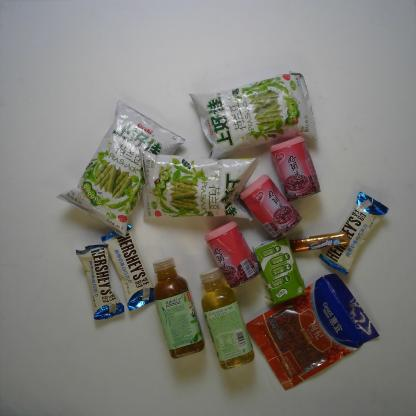Candy: (288, 230, 350, 254)
Canned Food: (236, 171, 303, 242), (204, 220, 262, 290), (267, 133, 322, 204)
Chocolate: (317, 191, 390, 276), (99, 222, 157, 313), (74, 243, 126, 321)
Dried Fruit: (244, 270, 381, 392)
Drink: (197, 265, 256, 372), (149, 255, 207, 360)
Milk: (250, 235, 306, 305)
Puffed Food: (54, 98, 187, 239), (188, 70, 320, 161), (137, 148, 262, 222)
